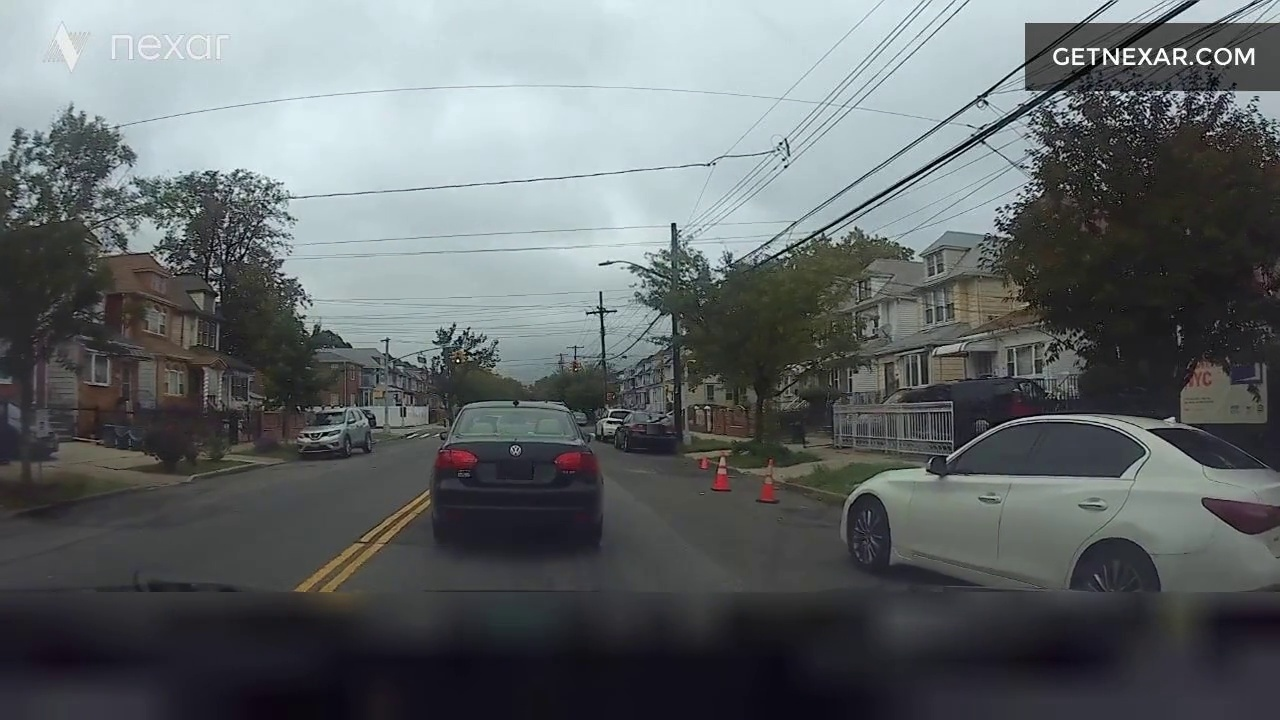car: (799, 389, 1280, 618), (429, 372, 609, 547), (283, 402, 384, 479), (621, 381, 691, 472)
traffic light: (419, 328, 478, 377)
